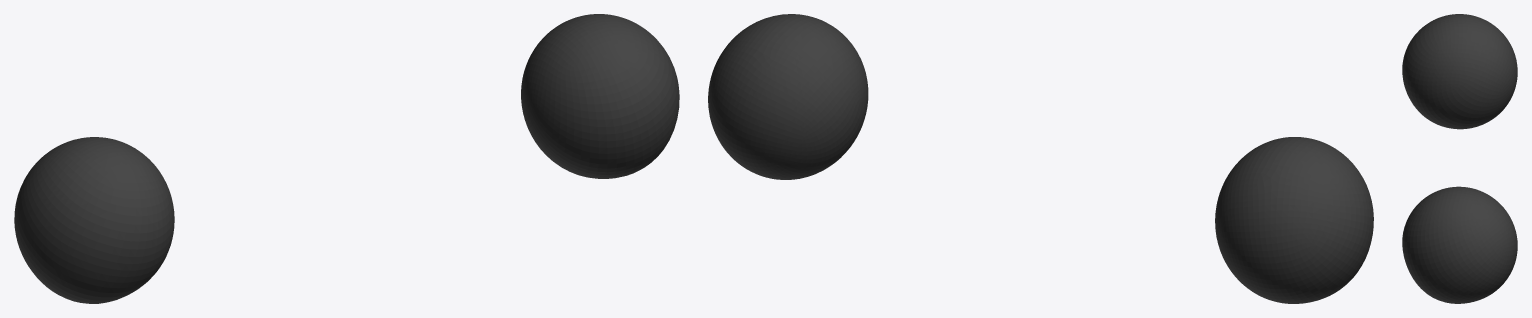
The model's file is eye_glass.glb.
The picture shows the model from 3 angles, left to right: view 1: azimuth 30°, elevation 25°; view 2: azimuth 150°, elevation 25°; view 3: azimuth 270°, elevation 25°; orthographic projection. The views are drawn at different scales.
Visible parts, largest first — view 1: eye_glass; view 2: eye_glass; view 3: eye_glass.
Part boxes in pixels (box(x1,y1,x2,y2)): eye_glass: box(14, 14, 679, 303); eye_glass: box(708, 14, 1373, 303); eye_glass: box(1402, 14, 1517, 303).
Bounding box in the file's own units: 0.2499 × 0.0561 × 0.0554.
1 material, 1 textured.
